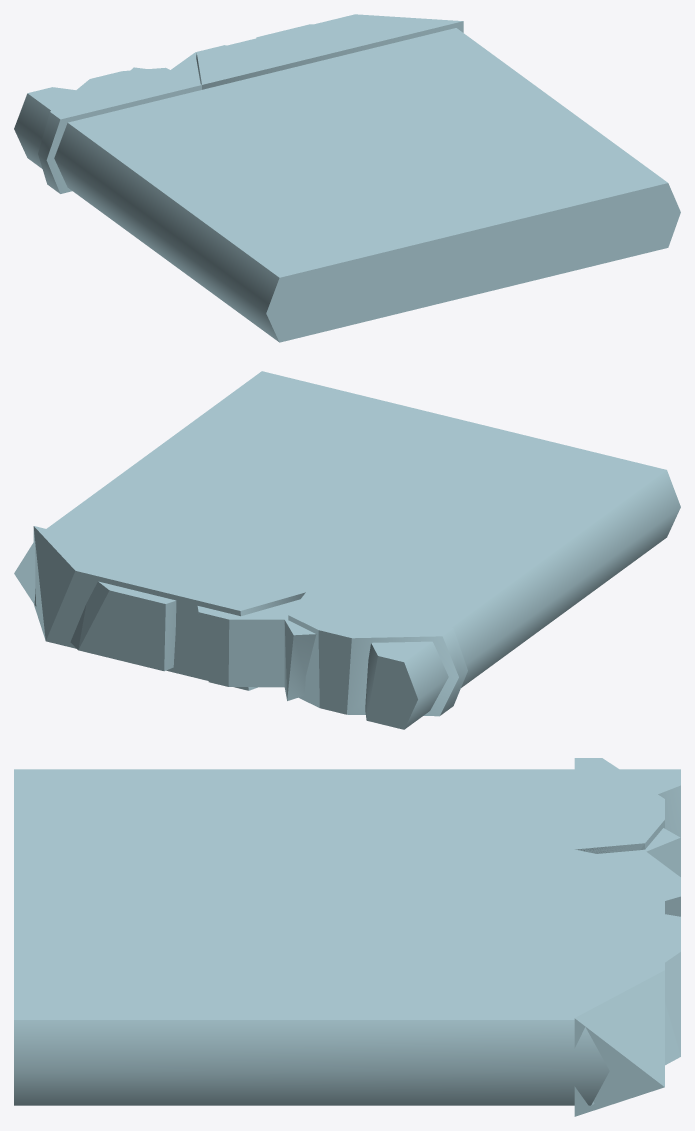
3 views of the same model, one above another, from view 1: azimuth 30°, elevation 25°; view 2: azimuth 150°, elevation 25°; view 3: azimuth 270°, elevation 25° (orthographic). The views are drawn at different scales.
Parts seen in each view (by area): view 1: Object02; view 2: Object02; view 3: Object02.
Boxes of the visible parts, x1,y1,x2,y2 form: Object02: (14, 14, 680, 342); Object02: (14, 371, 680, 729); Object02: (14, 758, 680, 1116).
Bounding box in the file's own units: 29853 × 5042 × 30869.
